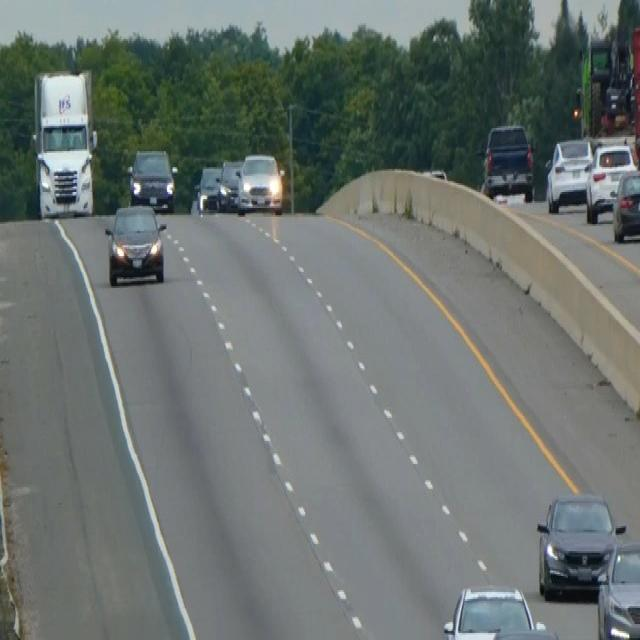car: (535, 489, 625, 599), (442, 583, 553, 637), (103, 199, 168, 288), (596, 539, 639, 638), (585, 139, 636, 222), (544, 135, 593, 212), (127, 146, 176, 212), (237, 151, 283, 215), (611, 165, 639, 242), (217, 158, 243, 212), (196, 164, 221, 212)
jeep: (479, 121, 536, 203)
lorry: (30, 66, 99, 220)
